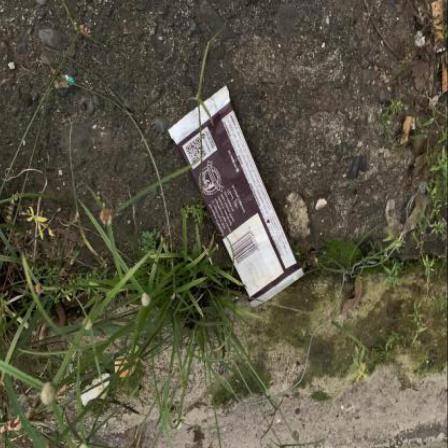Cigarette: (432, 1, 447, 54), (400, 118, 414, 146), (442, 53, 448, 96)
Other litter: (216, 183, 429, 407)
Plastic bag - wrapper: (169, 86, 305, 308), (386, 151, 432, 237), (67, 77, 75, 87)
